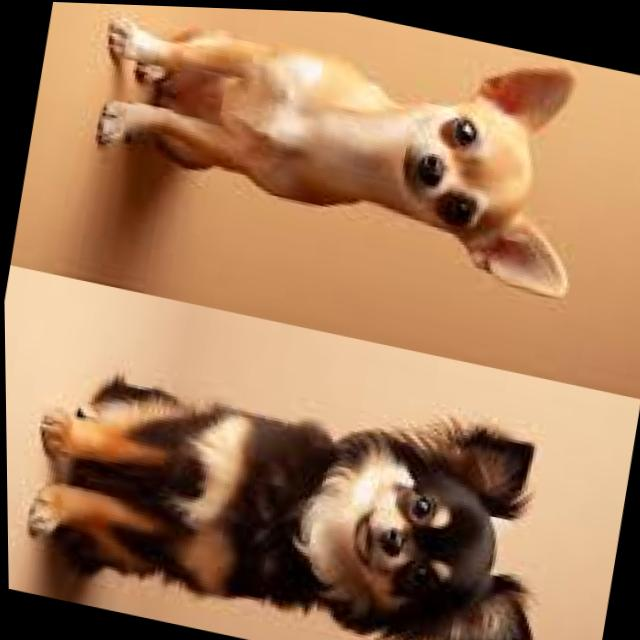Chihuahua: (11, 338, 569, 640), (80, 3, 604, 298)
